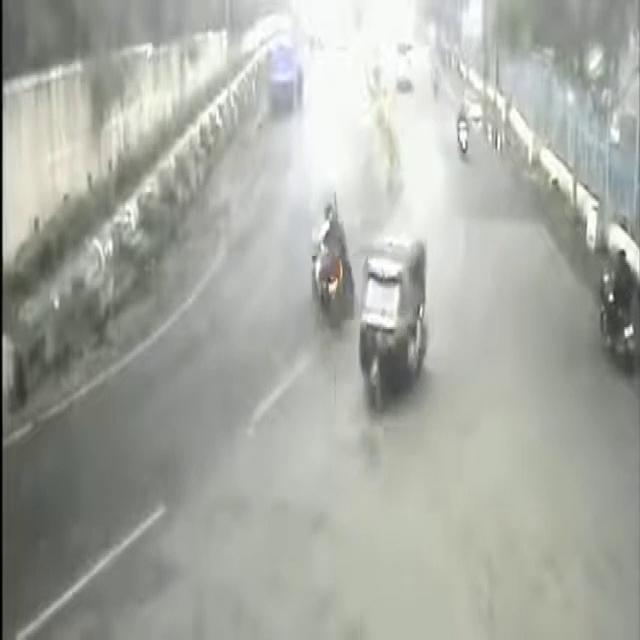accident: (285, 168, 359, 359)
